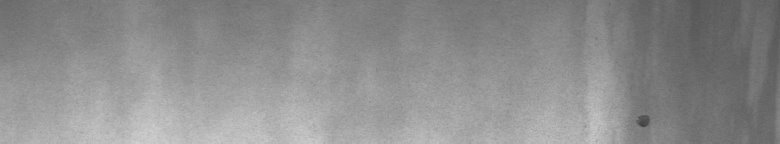fi: (636, 108, 654, 133)
